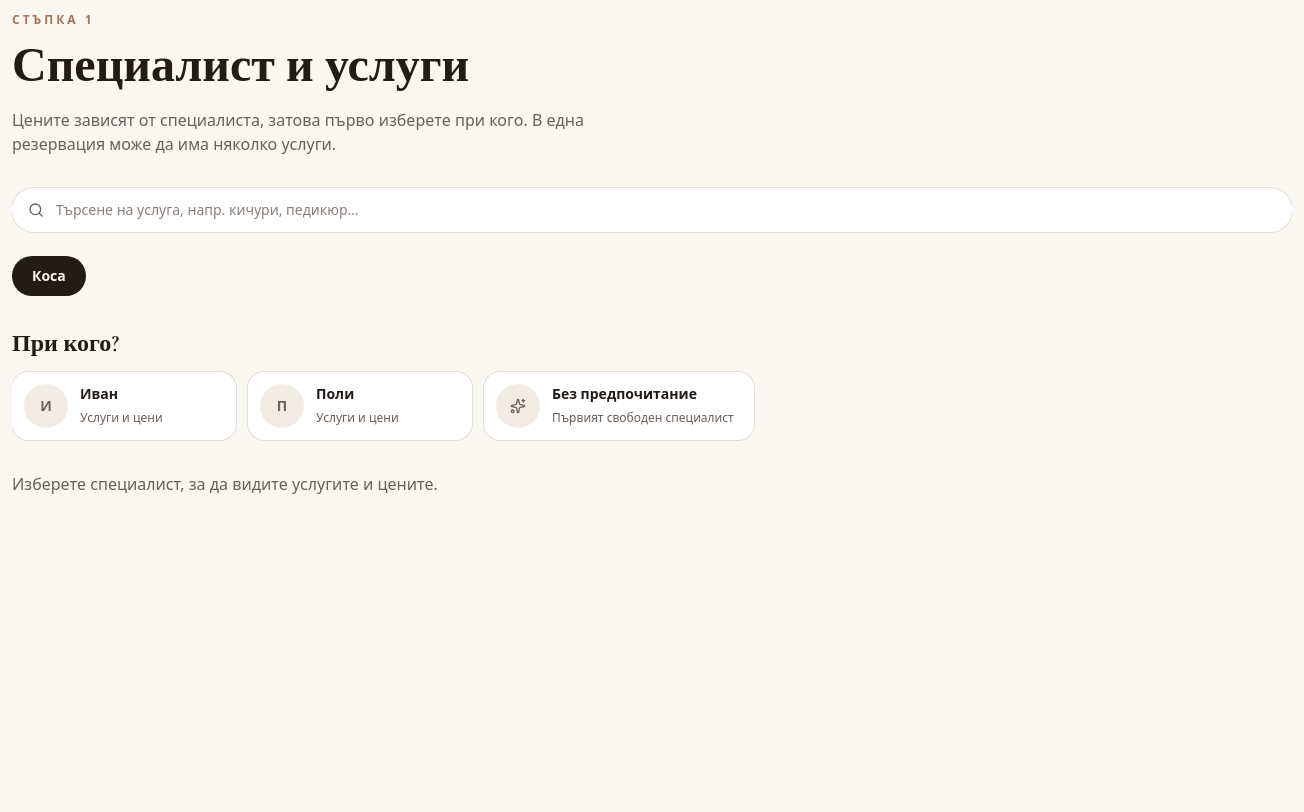
ServicesStep › shows only the chosen specialist's services, at their prices
Expected: the text "Изберете специалист, за да видите услугите и цените." is shown, [12,473,438,495]
Click the radio button labelled "П Поли Услуги и цени".
click(360, 406)  # box [248,372,472,440]
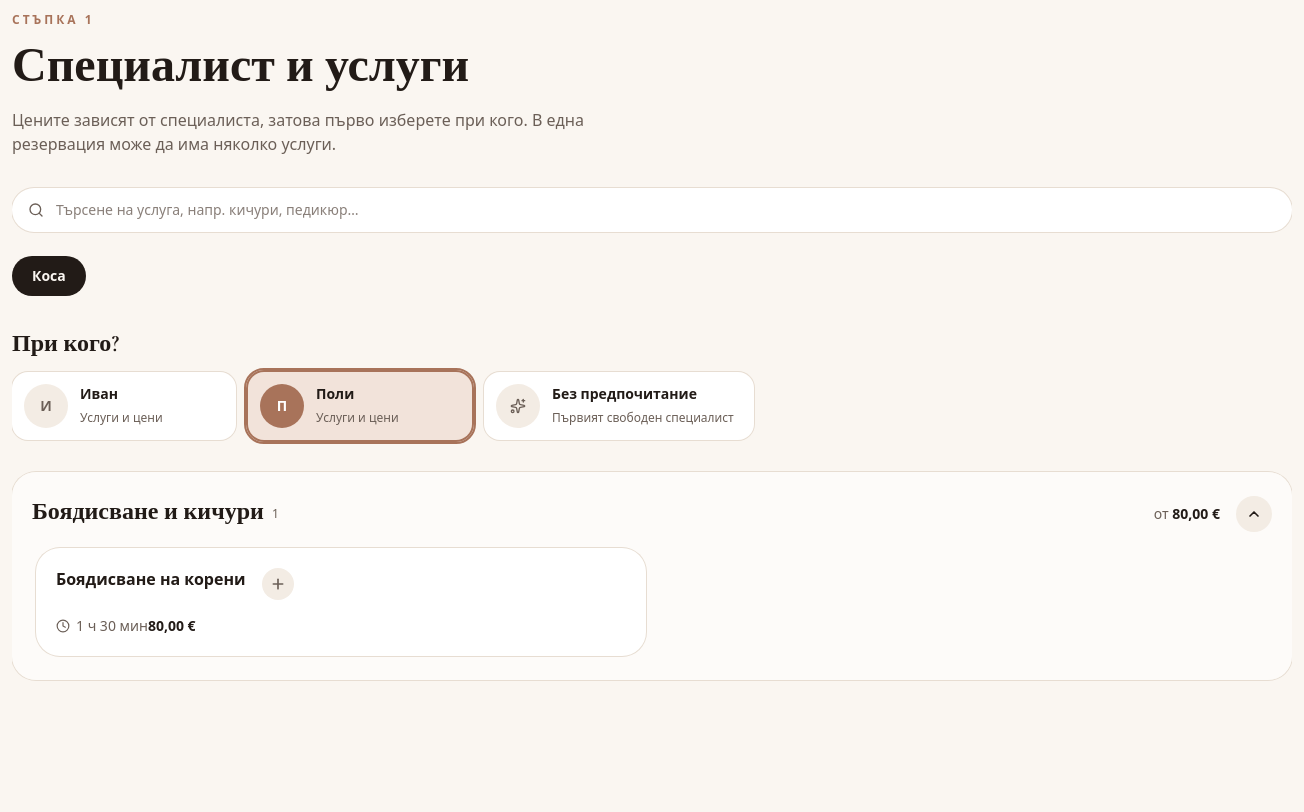
Expected: the button "Подстригване и прически" is not shown
Now the button "Боядисване на корени 1 ч 30 мин 80,00 €" is shown, box [36,548,646,656]
Click the radio button labelled "И Иван Услуги и цени".
click(124, 406)  # box [12,372,236,440]
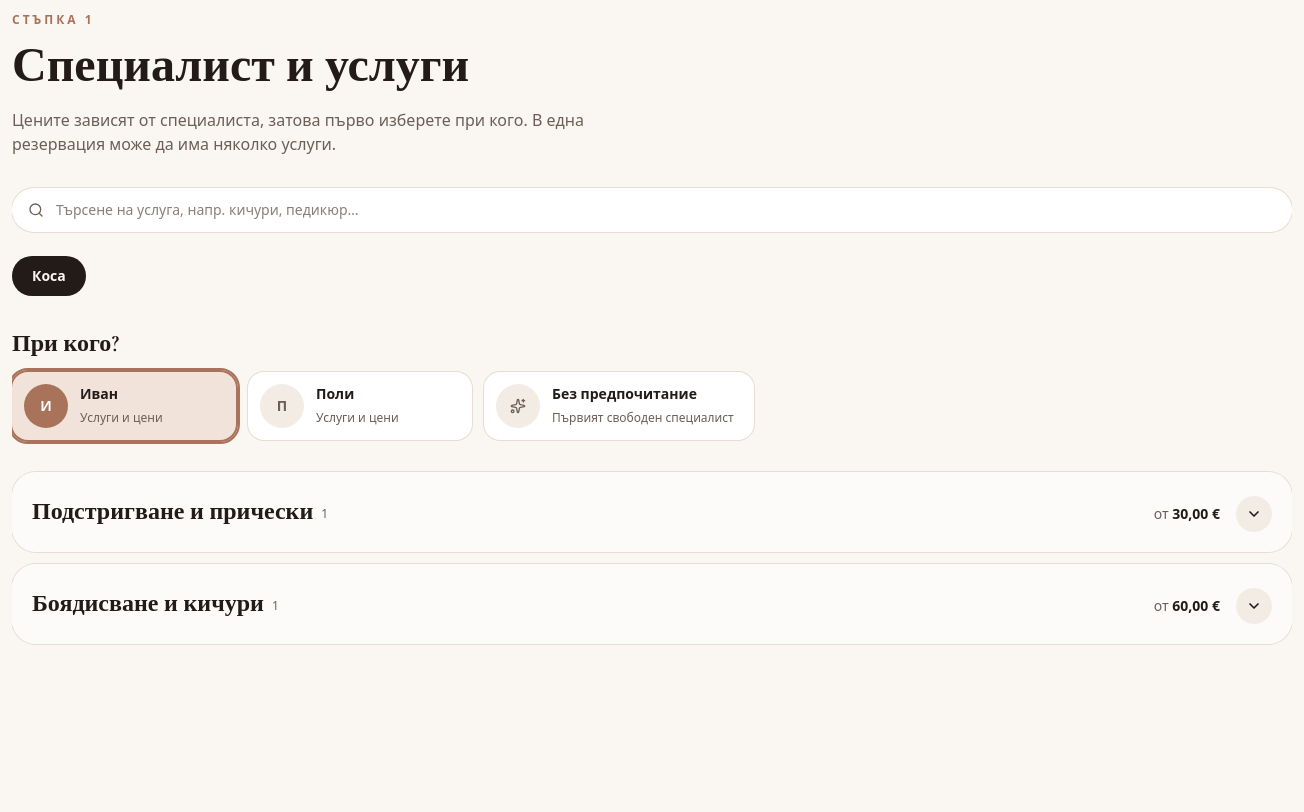
Click the button "Боядисване и кичури1 от 60,00 €".
click(148, 604)  # box [32,584,1272,624]
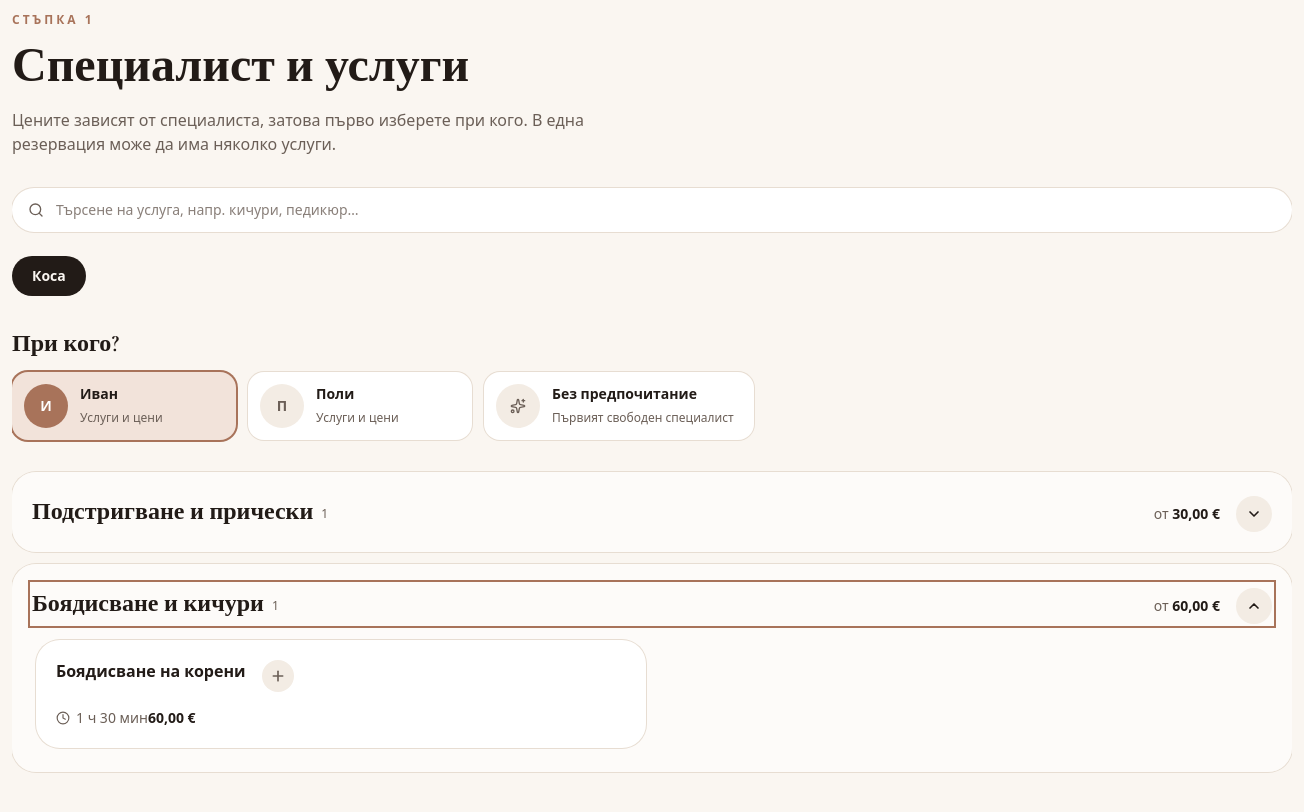
Now the button "Боядисване на корени 1 ч 30 мин 60,00 €" is shown, box [36,640,646,748]
